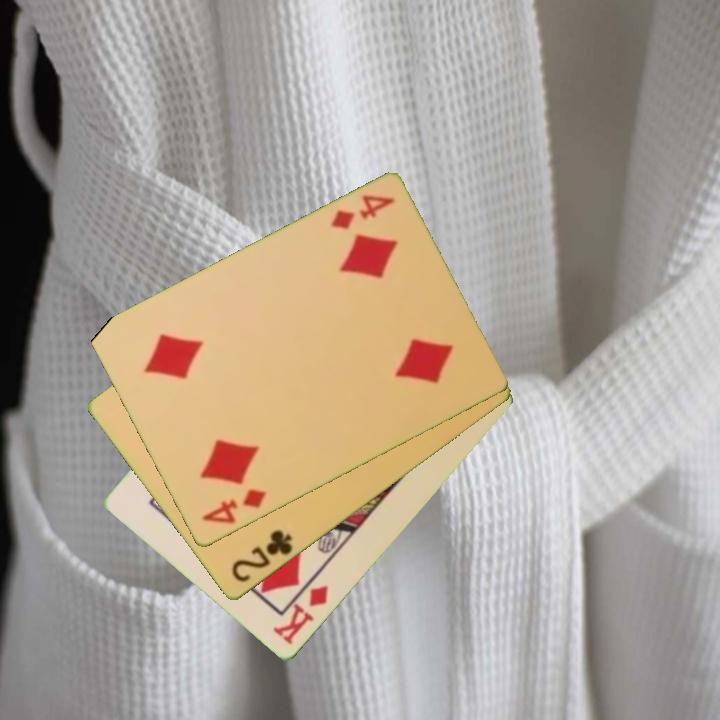2c: (227, 526, 296, 586)
4d: (198, 485, 269, 528), (327, 191, 398, 233)
Kd: (269, 582, 332, 649)
